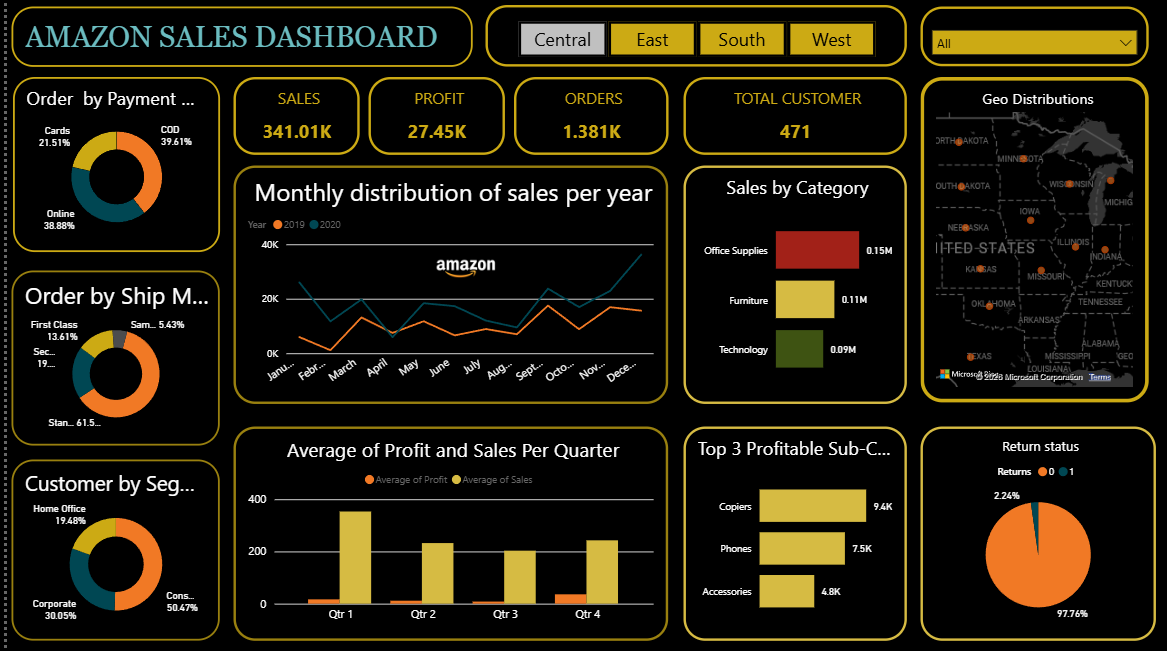

The dashboard page shown, as its layout file describes it:
{"tool":"powerbi","page":{"name":"Page 1","canvas":[1280,720],"ordinal":0},"visuals":[{"type":"textbox","box":[4.9,8.1,509.1,66.7],"z":0},{"type":"donutChart","fields":{"Category":["Sheet1.Payment Mode"],"Y":["CountNonNull(Sheet1.Order ID)"]},"box":[6.7,86.7,228.3,193.3],"z":1000},{"type":"donutChart","title":" Order by Ship Mode","fields":{"Category":["Sheet1.Ship Mode"],"Y":["CountNonNull(Sheet1.Order ID)"]},"box":[5,300,230,193.3],"z":2000},{"type":"donutChart","title":" Customer by Segment","fields":{"Y":["CountNonNull(Sheet1.Customer ID)"],"Category":["Sheet1.Segment"]},"box":[5,508.3,230,200],"z":3000},{"type":"lineChart","title":"Monthly distribution of sales per year","fields":{"Category":["Sheet1.Order Date.Variation.Date Hierarchy.Month"],"Y":["Sum(Sheet1.Sales)"],"Series":["Sheet1.Order Date.Variation.Date Hierarchy.Year"]},"box":[250,183.3,480,263.3],"z":4000},{"type":"clusteredColumnChart","title":"Average of Profit and Sales Per Quarter","fields":{"Category":["Sheet1.Order Date.Variation.Date Hierarchy.Quarter"],"Y":["Avg(Sheet1.Profit)","Avg(Sheet1.Sales)"]},"box":[250,471.7,480,236.7],"z":5000},{"type":"image","box":[361.1,235.2,306.4,129.2],"z":6000},{"type":"clusteredBarChart","title":" Sales by Category","fields":{"Category":["Sheet1.Category"],"Y":["Sum(Sheet1.Sales)"]},"box":[746.7,183.3,246.7,263.3],"z":7000},{"type":"clusteredBarChart","title":" Top 3 Profitable Sub-Category","fields":{"Category":["Sheet1.Sub-Category"],"Y":["Sum(Sheet1.Profit)"]},"box":[746.7,471.7,246.7,236.7],"z":8000},{"type":"pieChart","title":" Return status","fields":{"Category":["Sheet1.Returns"],"Y":["CountNonNull(Sheet1.Order ID)"]},"box":[1008.3,471.7,260,236.7],"z":9000},{"type":"map","title":"Geo Distributions","fields":{"Category":["Sheet1.State"]},"box":[1008.8,86.1,251.8,359.5],"z":10000},{"type":"cardVisual","title":"SALES","fields":{"Data":["Sum(Sheet1.Sales)"]},"box":[250.1,86.1,139.1,86.1],"z":11000},{"type":"cardVisual","title":"PROFIT","fields":{"Data":["Sum(Sheet1.Profit)"]},"box":[399.2,86.1,150.7,86.1],"z":12000},{"type":"cardVisual","title":"ORDERS","fields":{"Data":["CountNonNull(Sheet1.Order ID)"]},"box":[559.9,86.1,170.6,86.1],"z":13000},{"type":"cardVisual","title":"TOTAL CUSTOMER","fields":{"Data":["Count(Sheet1.Customer ID)"]},"box":[747.1,86.1,246.8,86.1],"z":14000},{"type":"slicer","fields":{"Values":["Sheet1.Region"]},"box":[528.4,6.6,465.5,67.9],"z":15000},{"type":"slicer","fields":{"Values":["Sheet1.State"]},"box":[1008.8,8.3,251.8,66.3],"z":16000}]}

Visuals, with their boxes in screenshot pixels (x1, y1, x2, y2), scaled from the page's 1280x720 canvas onto the 1167x651 screenshot:
textbox: region(4, 7, 469, 68)
donutChart - Sheet1.Payment Mode x CountNonNull(Sheet1.Order ID): region(6, 78, 214, 253)
" Order by Ship Mode" donutChart: region(5, 271, 214, 446)
" Customer by Segment" donutChart: region(5, 460, 214, 640)
"Monthly distribution of sales per year" lineChart: region(228, 166, 666, 404)
"Average of Profit and Sales Per Quarter" clusteredColumnChart: region(228, 426, 666, 641)
image: region(329, 213, 609, 329)
" Sales by Category" clusteredBarChart: region(681, 166, 906, 404)
" Top 3 Profitable Sub-Category" clusteredBarChart: region(681, 426, 906, 641)
" Return status" pieChart: region(919, 426, 1156, 641)
"Geo Distributions" map: region(920, 78, 1149, 403)
"SALES" cardVisual: region(228, 78, 355, 156)
"PROFIT" cardVisual: region(364, 78, 501, 156)
"ORDERS" cardVisual: region(510, 78, 666, 156)
"TOTAL CUSTOMER" cardVisual: region(681, 78, 906, 156)
slicer - Sheet1.Region: region(482, 6, 906, 67)
slicer - Sheet1.State: region(920, 8, 1149, 67)
